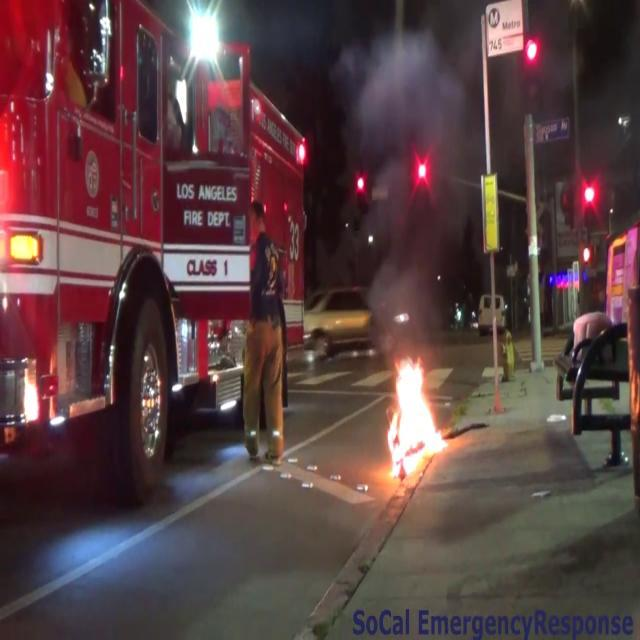Fire: (382, 352, 448, 481)
Smoke: (346, 0, 494, 345)
